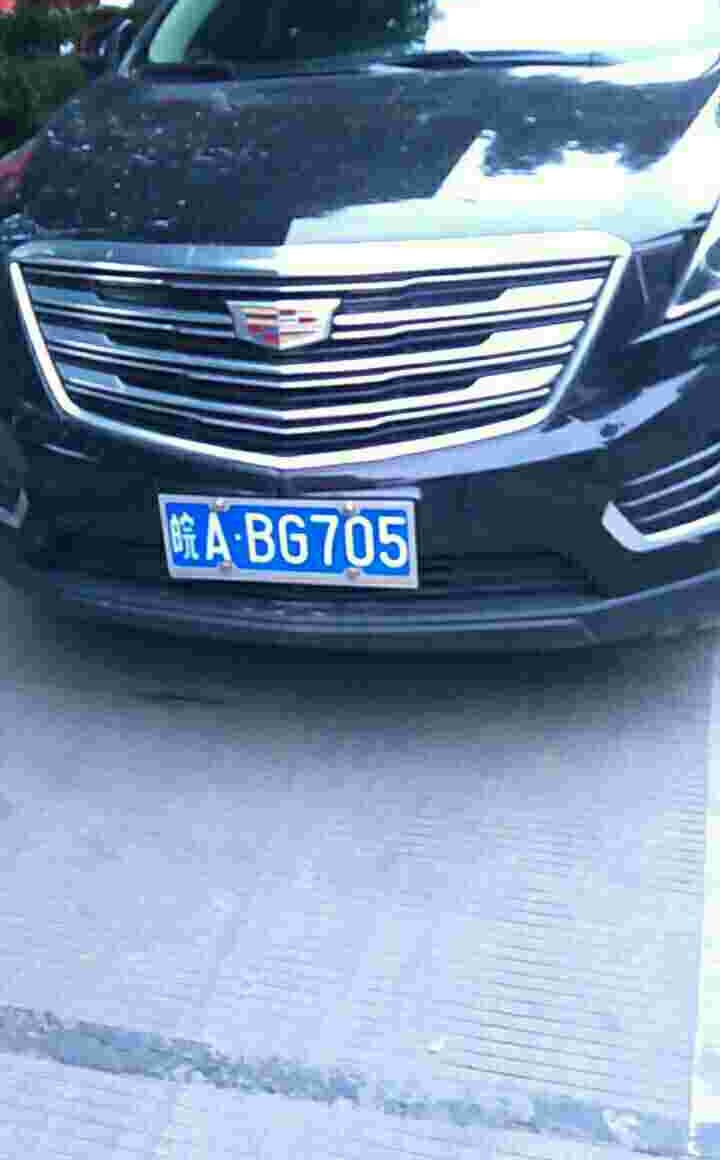license_plate: (172, 505, 410, 579)
